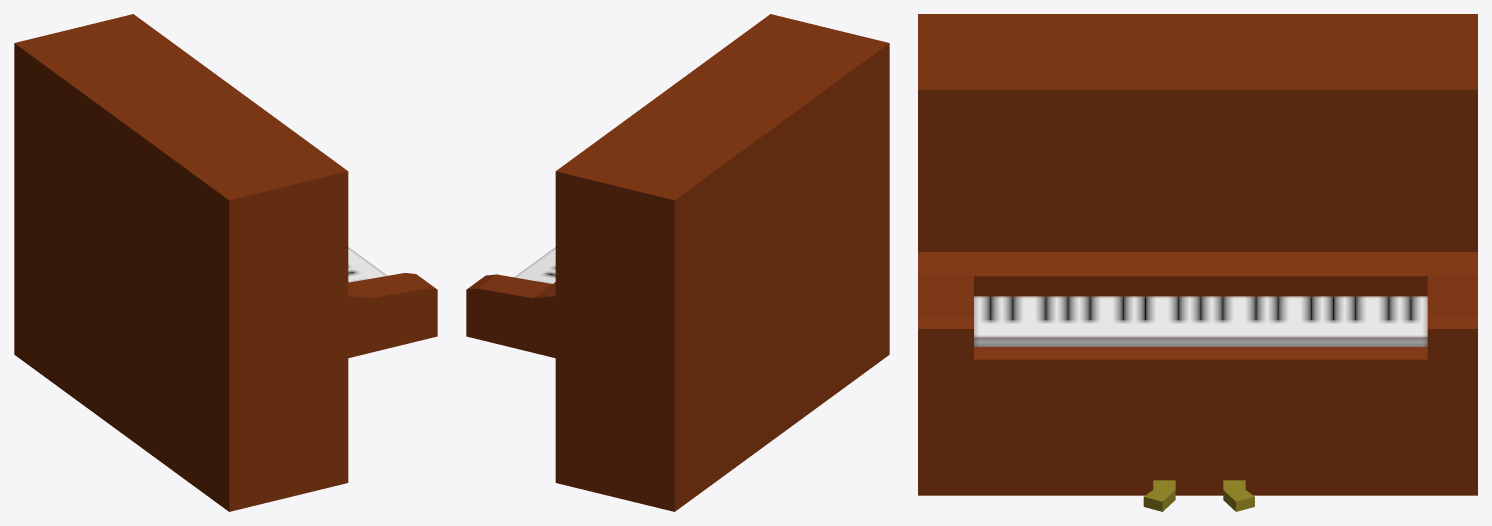
The model's file is PIANO.fbx.
3 renders of one model, left to right at view 1: azimuth 30°, elevation 25°; view 2: azimuth 150°, elevation 25°; view 3: azimuth 270°, elevation 25°, orthographic. The views are drawn at different scales.
Visible parts, largest first — view 1: mesh; view 2: mesh; view 3: mesh, mesh_1, mesh_2.
Part boxes in pixels (x1,y1,x2,y2): mesh: (14,14,437,511); mesh: (466,14,889,511); mesh: (918,14,1477,495); mesh_1: (1143,480,1175,511); mesh_2: (1223,480,1254,511).
Bounding box in the file's own units: 175 × 250 × 312.
Materials: 2 (2 with a texture image).
